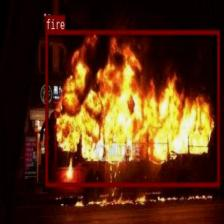fire: (45, 30, 219, 186)
